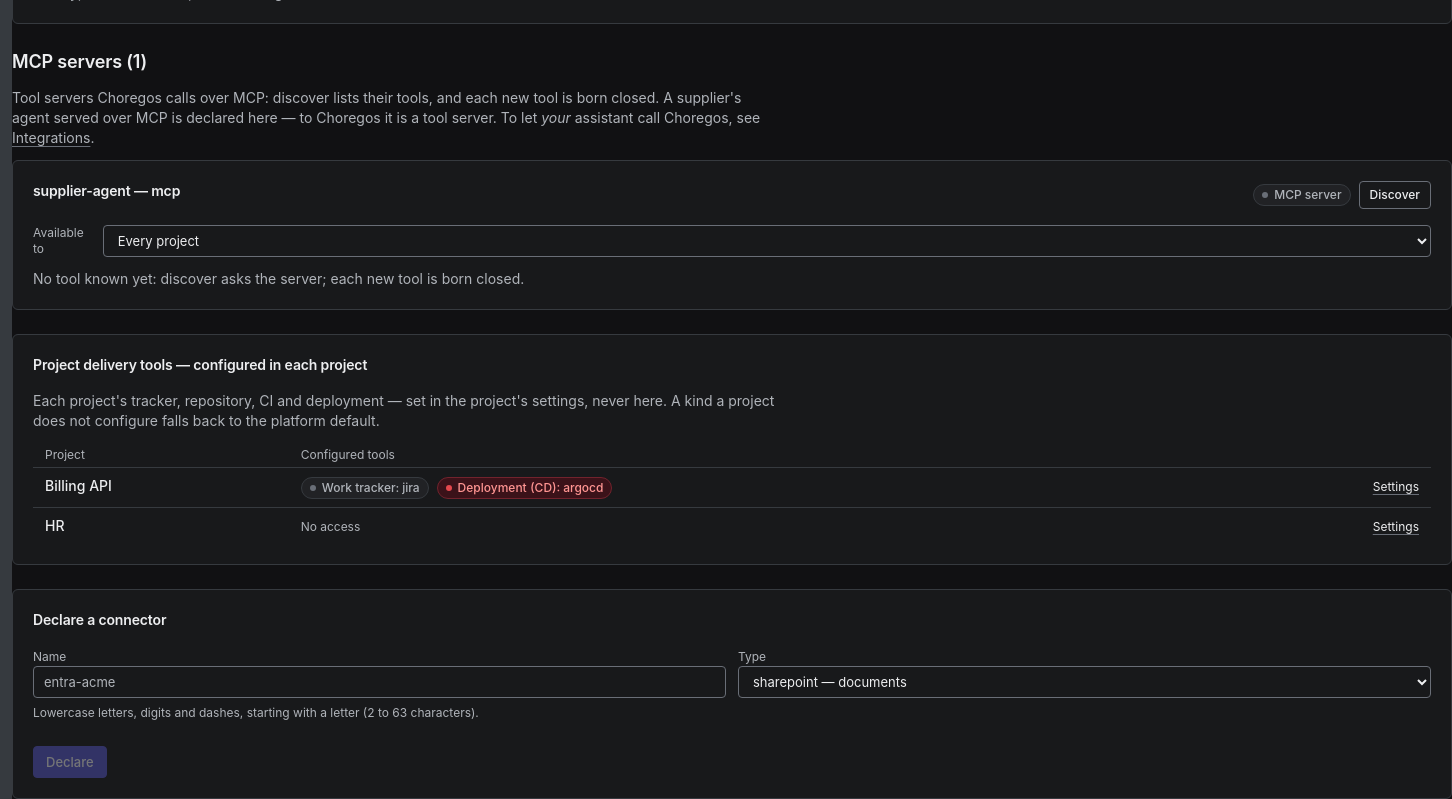
Scenario: les connecteurs, rangés par ce qu'ils sont (S21-04) › says the name's rule and keeps Declare off for a name the API refuses, not a bare 422
The width and height of the screenshot is (1452, 799).
(page scrolled)
Type "Diametral Confluence" into the field with placeholder "entra-acme". click: (380, 682)
box: [33, 666, 726, 698]
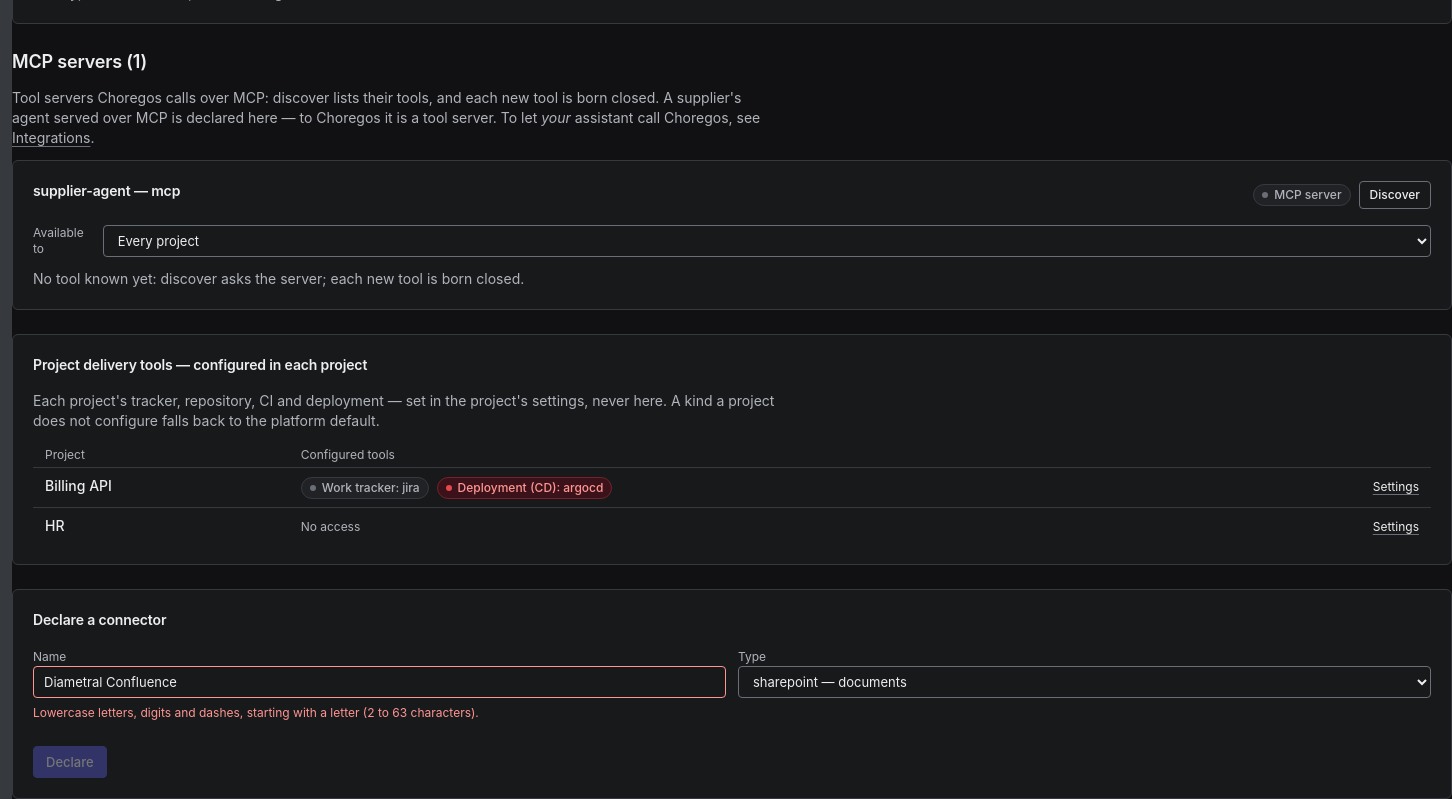
Expected: the button "Declare" is disabled, [33, 746, 107, 778]
Result: the field with placeholder "entra-acme" is marked as invalid
Replace the text in the field with placeholder "entra-acme" with "diametral-confluence". click: (380, 682)
box: [33, 666, 726, 698]
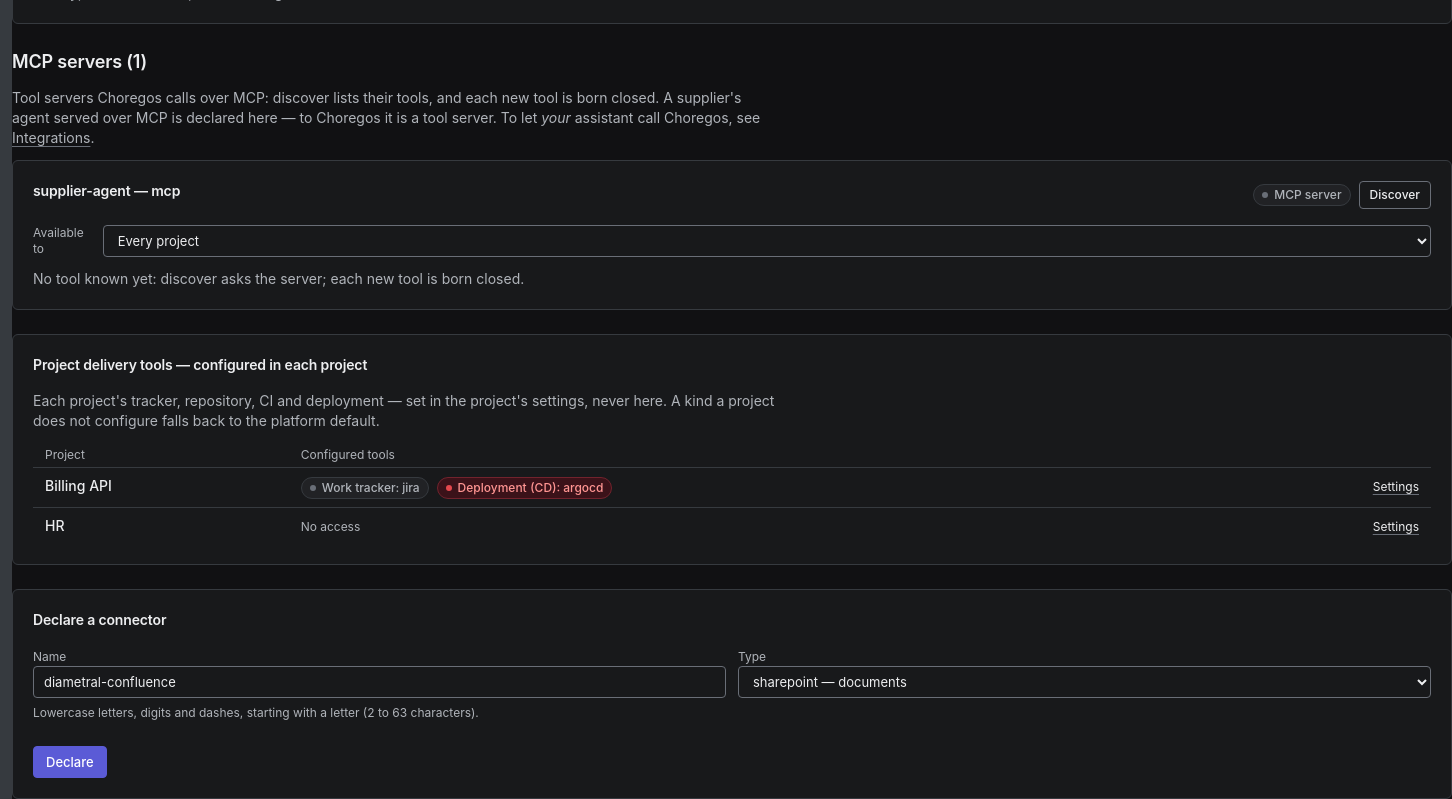
Result: the button "Declare" is enabled at [33, 746, 107, 778]
